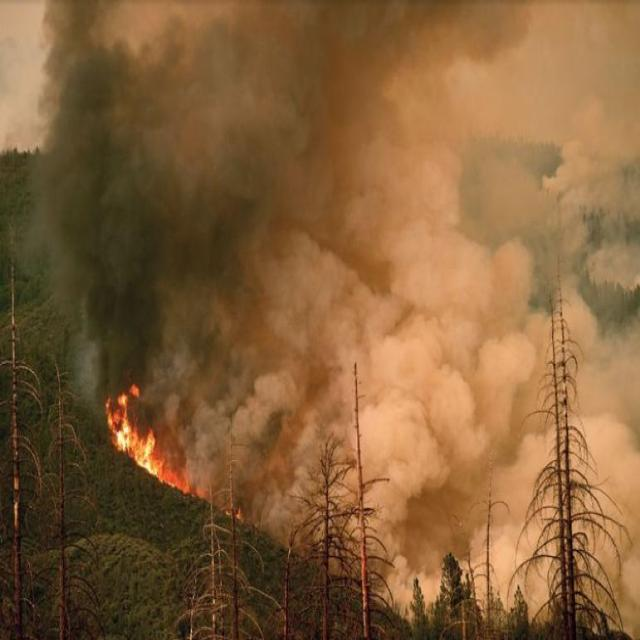Fire: (97, 381, 194, 491)
